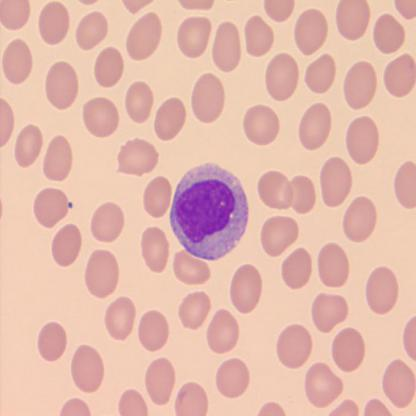Atypical lymphocyte: (170, 162, 248, 260)
